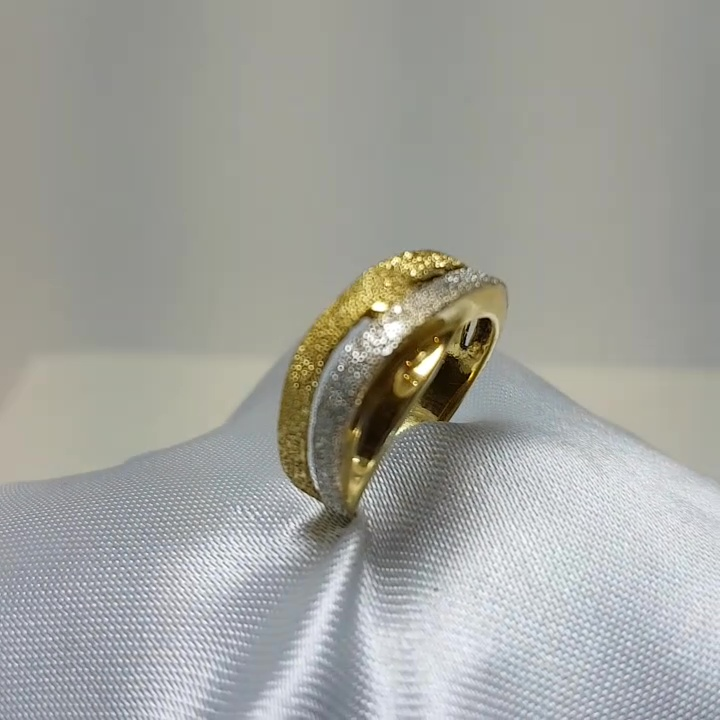Ring 5: (262, 236, 534, 528)
